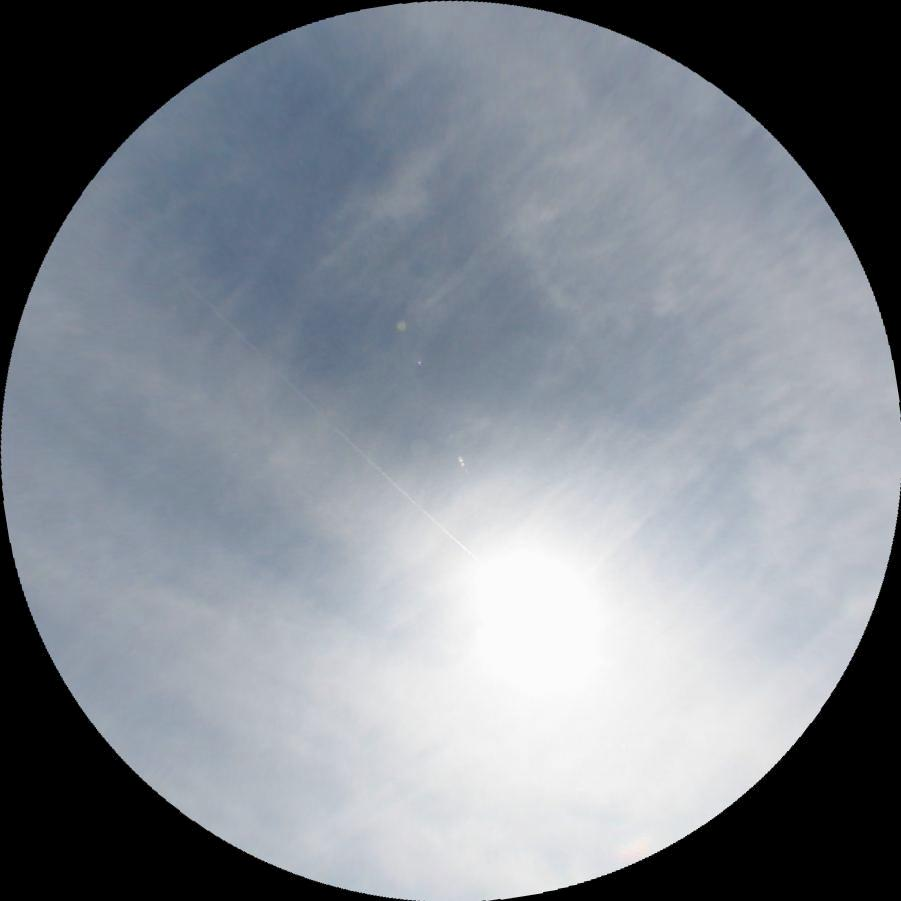contrail young: (83, 183, 481, 567)
sun: (470, 545, 603, 697)
